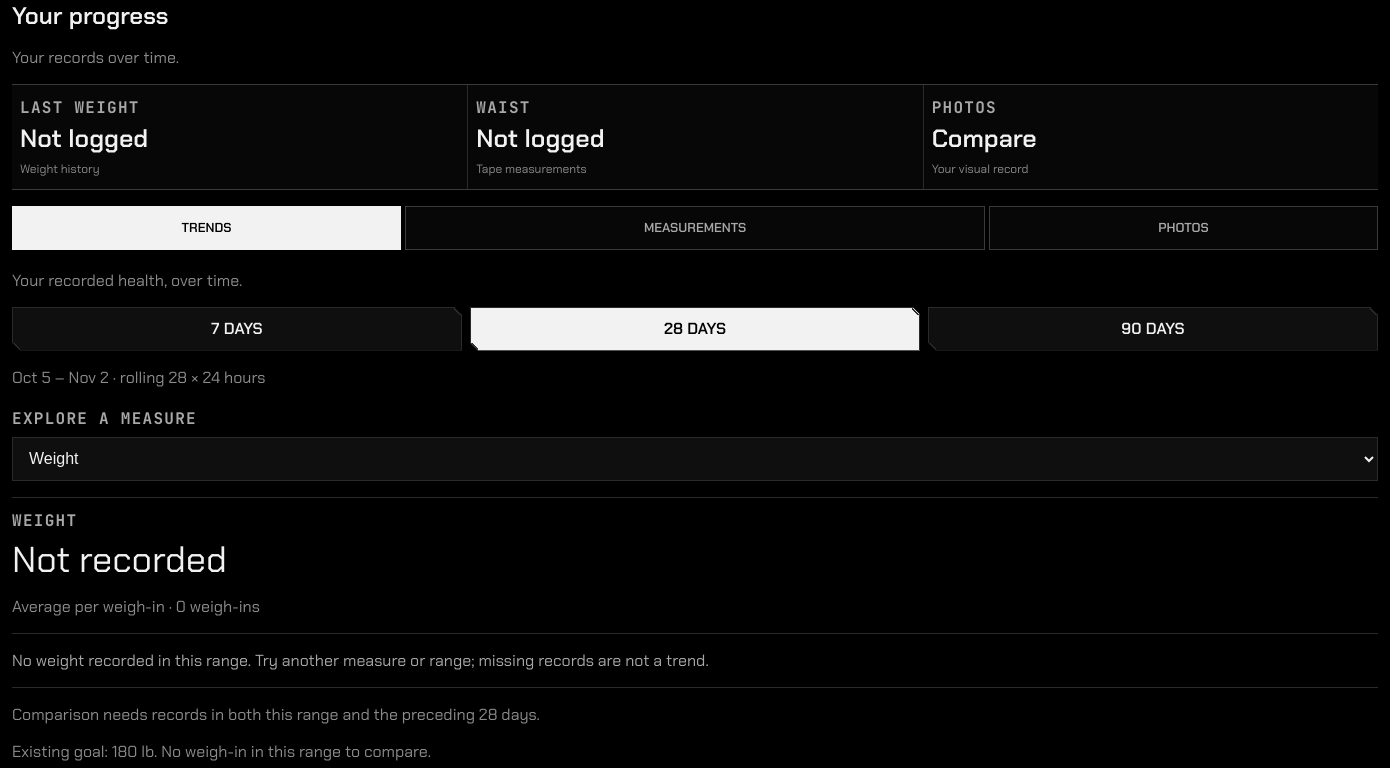
Scenario: BODY Insights & Progress › missing data stays explicit and no-weigh-in progress still exposes training and other measures
Select "Protein" in the dropdown labelled "EXPLORE A MEASURE": [695, 458] box 12,436 -> 1378,480
(page scrolled)
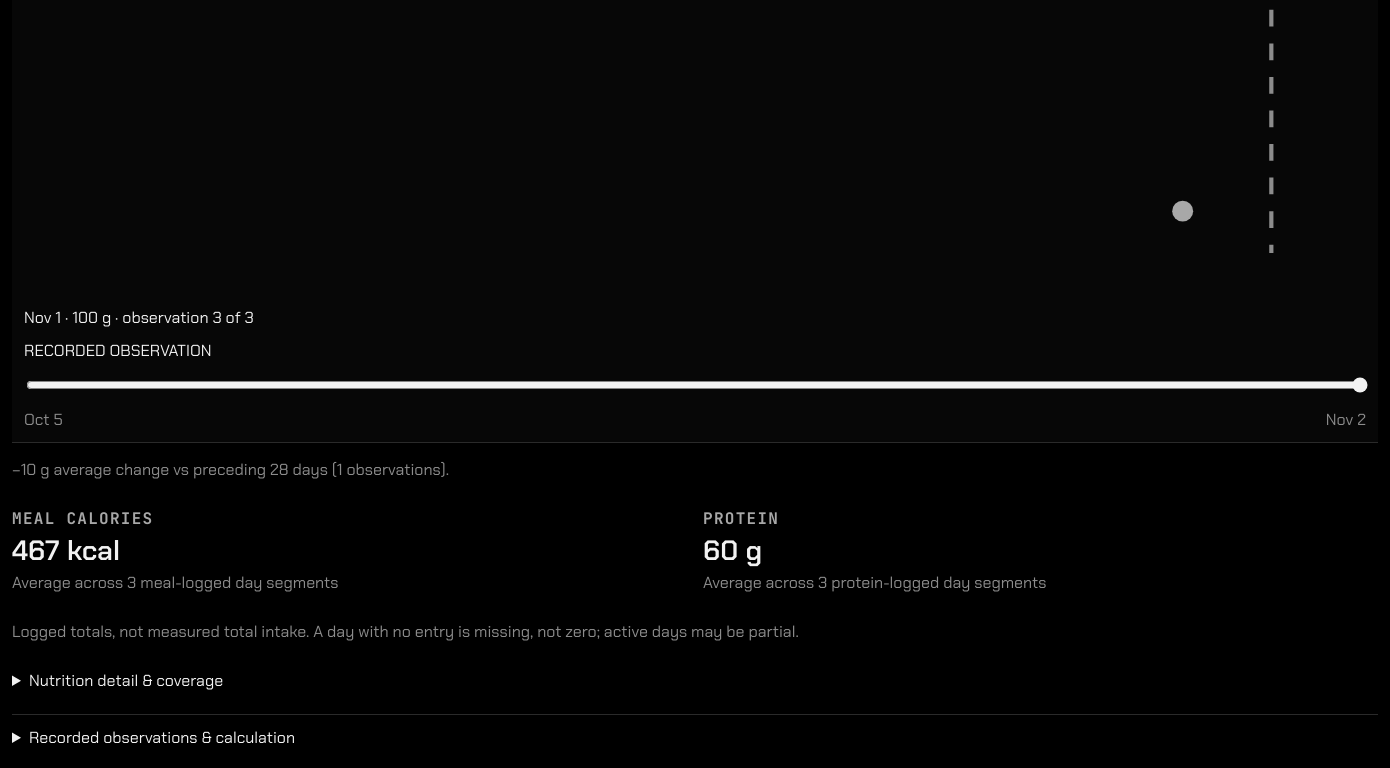
Result: the slider named "Open recorded observation" is shown at 26,363 -> 1368,407
